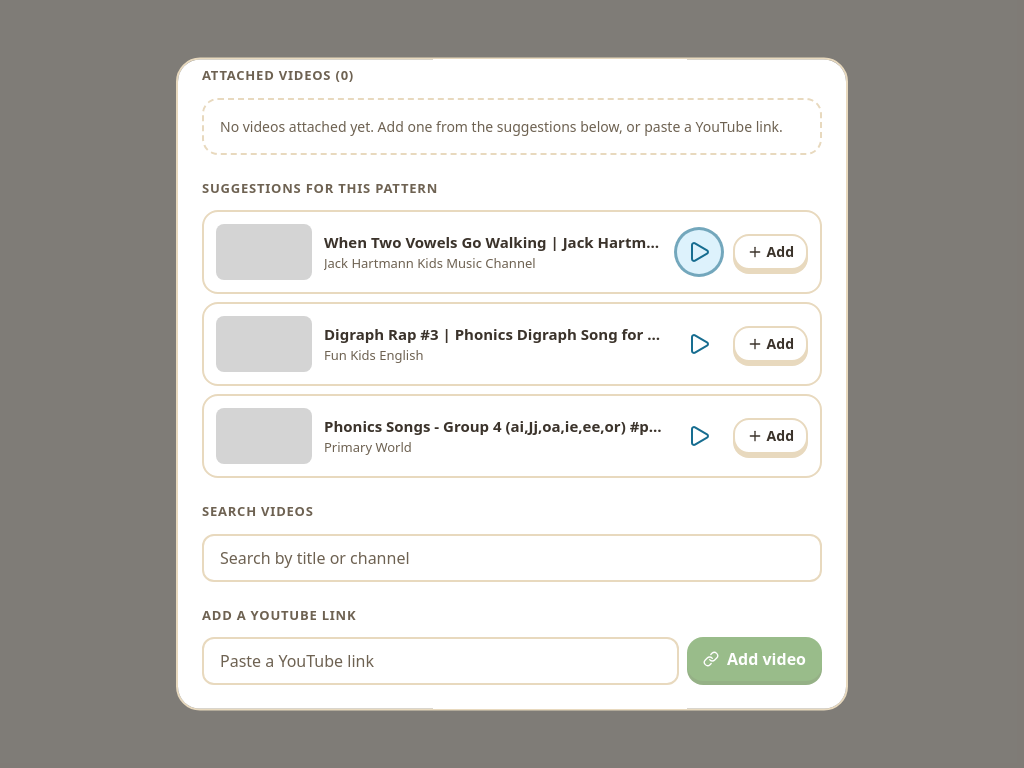
Test: PatternVideoModal (editable) › shows an error when the pasted link cannot be verified
The width and height of the screenshot is (1024, 768).
(page scrolled)
In the field labelled "Paste a YouTube link": [441, 661] box x1=202 y1=637 x2=679 y2=685, type "https://youtu.be/dQw4w9WgXcQ"
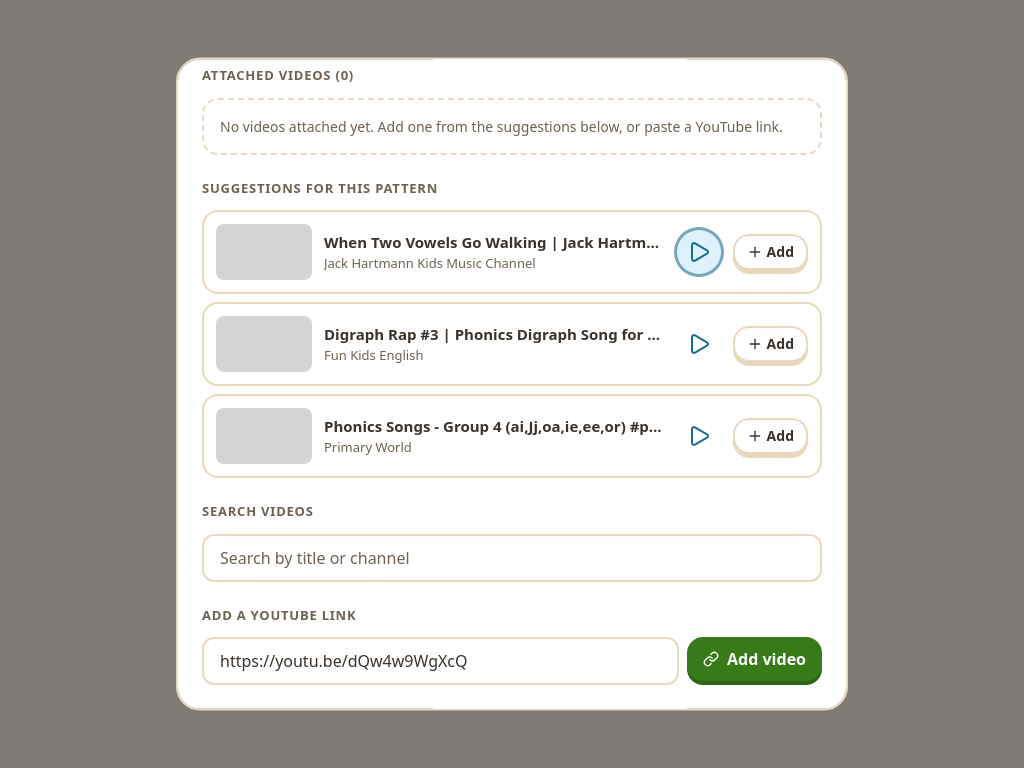
Click the button "Add video": [755, 659] box x1=687 y1=637 x2=822 y2=681
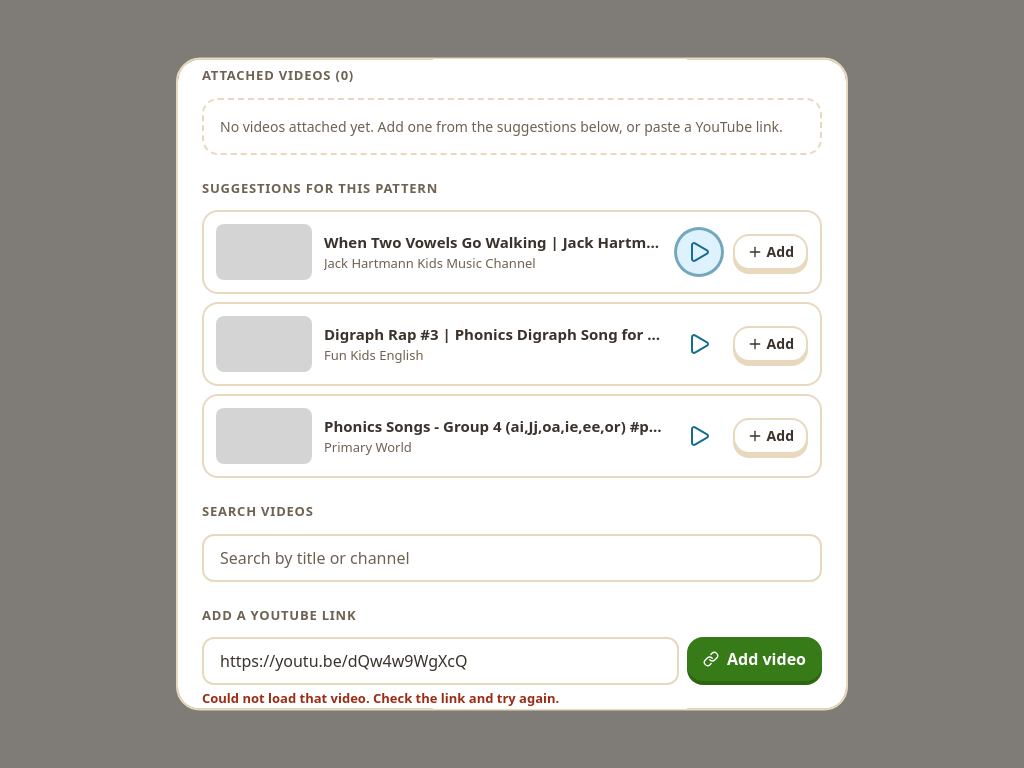
Expected: the message shows "Could not load that video", x1=202 y1=689 x2=559 y2=707
